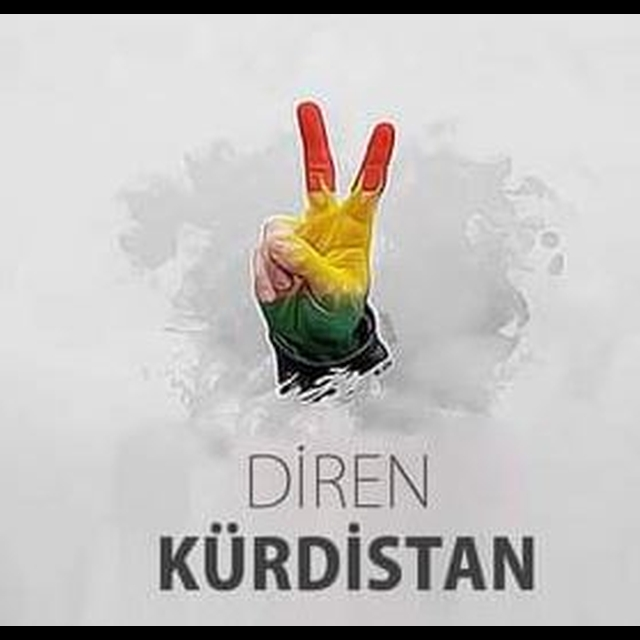ZI: (233, 87, 431, 404)
